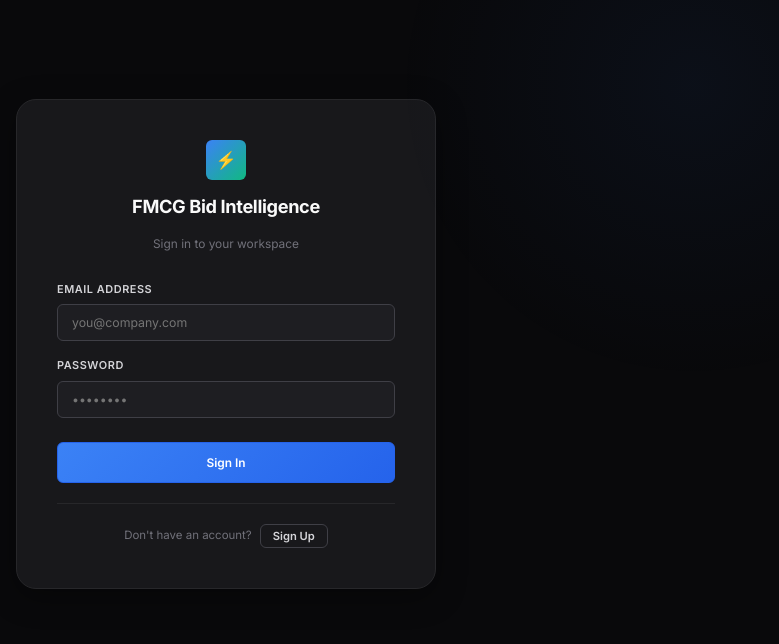
Test: LoginPage › allows toggling between login and register modes
This screenshot has width=779, height=644.
Click the "Sign Up" toggle button
Click the button "Sign Up": click(294, 536) [260, 524, 328, 548]
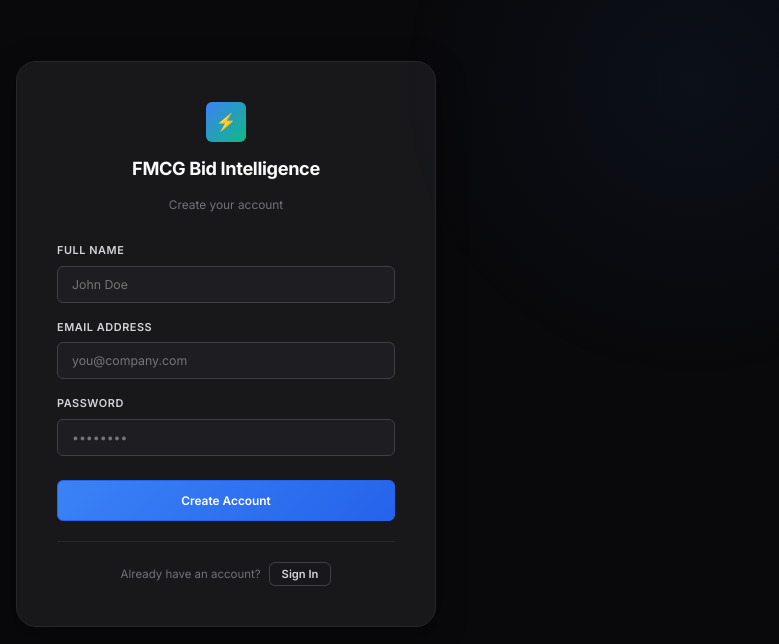
Result: the button "Create Account" is shown at [57, 480, 395, 521]
Result: the field labelled "Full Name" is shown at [57, 266, 395, 303]
